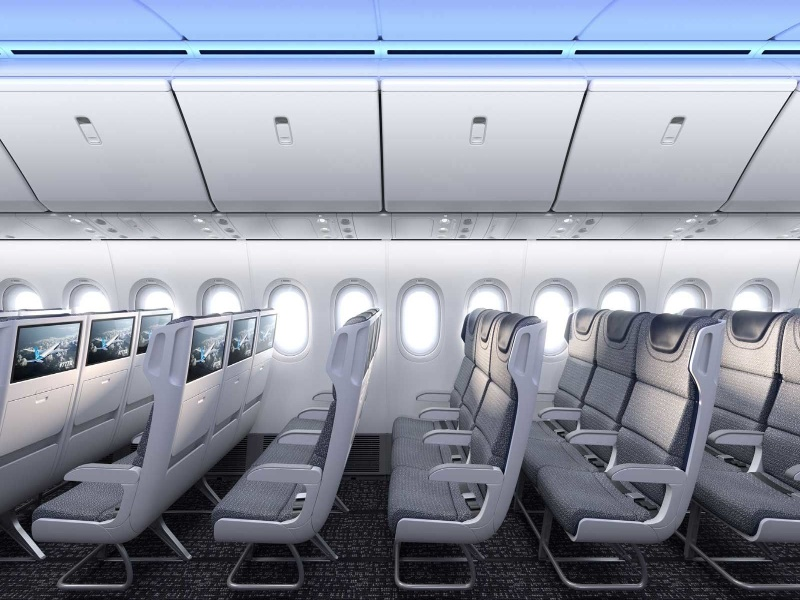close_bin: (555, 81, 795, 214), (170, 80, 384, 217), (1, 76, 213, 213), (383, 80, 590, 215)
